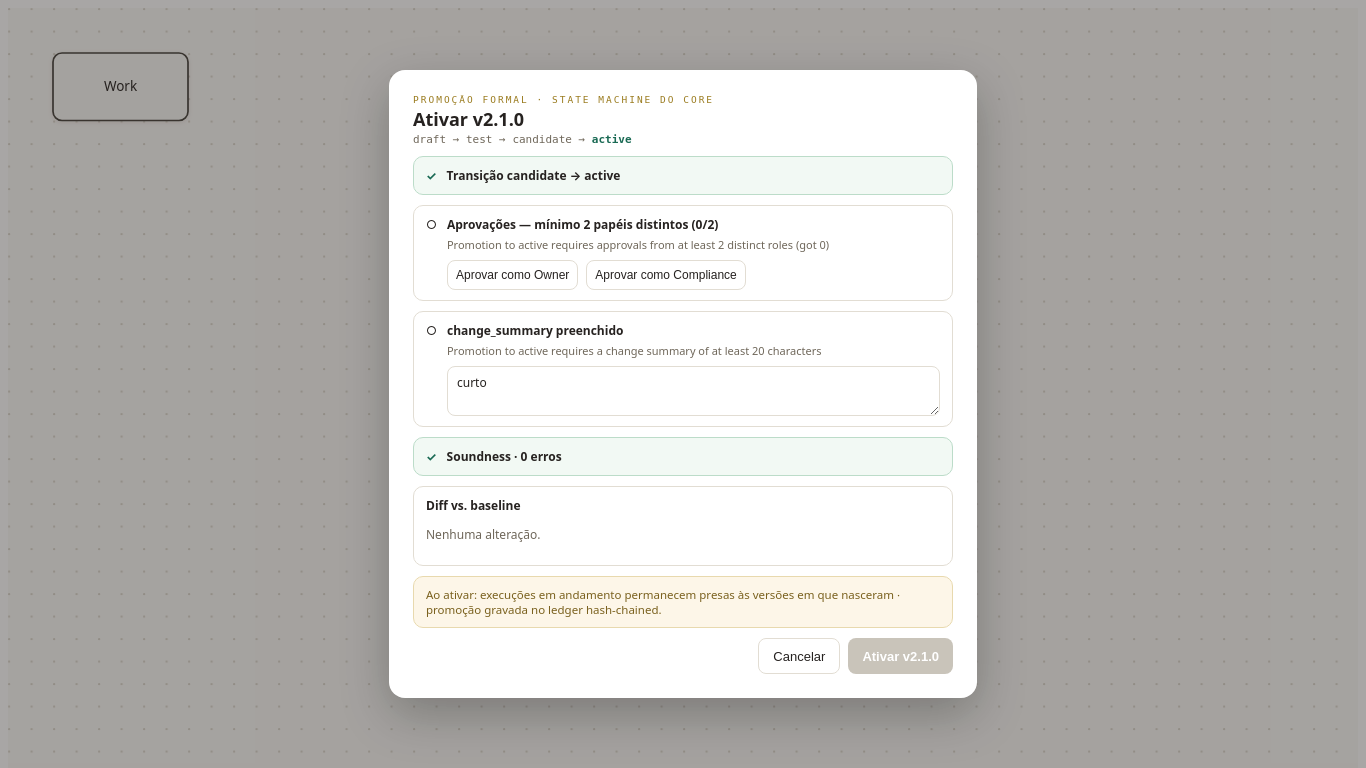
Scenario: PromotionPanel — gates reflect the core state machine › collects the changelog in a textarea and re-evaluates the gate on commit
Check: the dialog "Ativar v2.1.0" shows "change summary of at least 20", box [447,343,822,358]
Replace the text in the text box named "change_summary" with "Uma descrição de mudança suficientemente longa." at (694, 391), box [447,366,940,416]
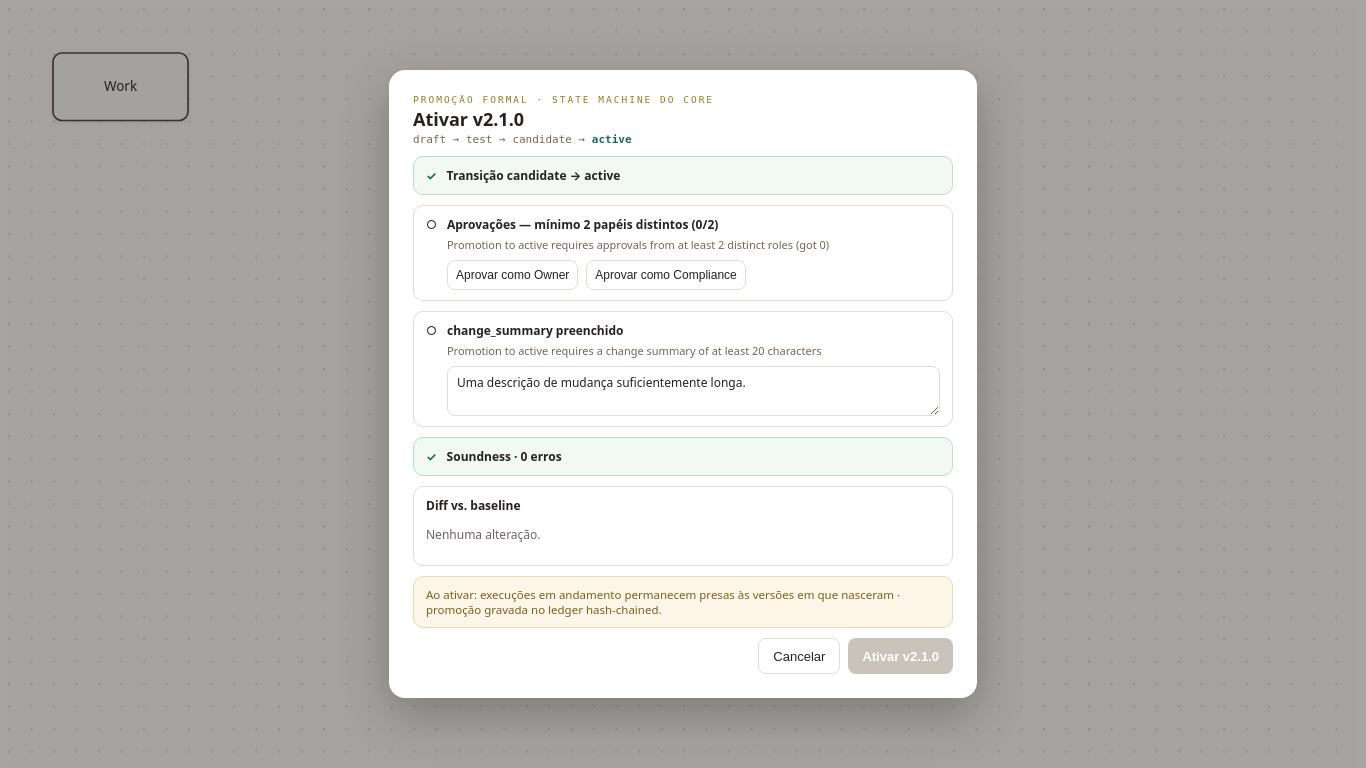
Leave the text box named "change_summary", box [447,366,940,416]
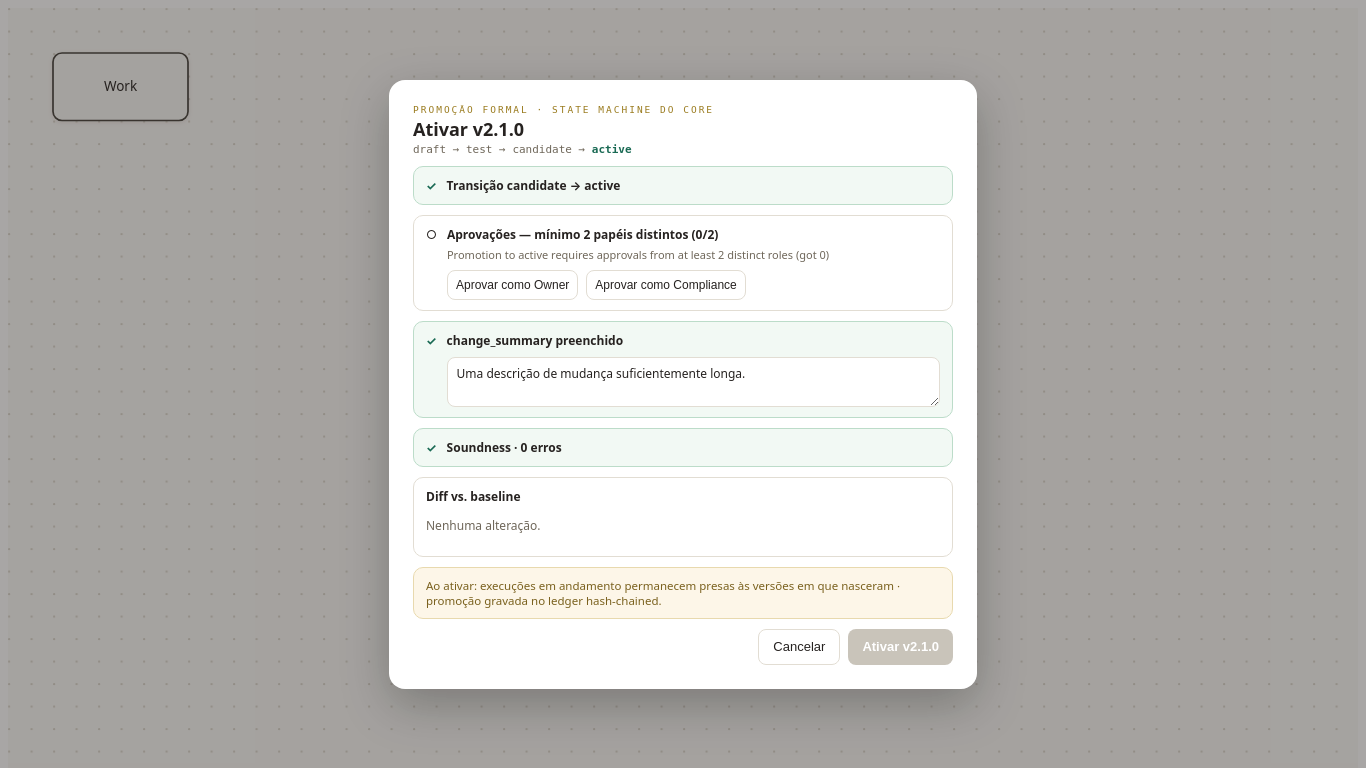
Check: the dialog "Ativar v2.1.0" no longer shows "change summary of at least 20", box [389,80,977,688]
